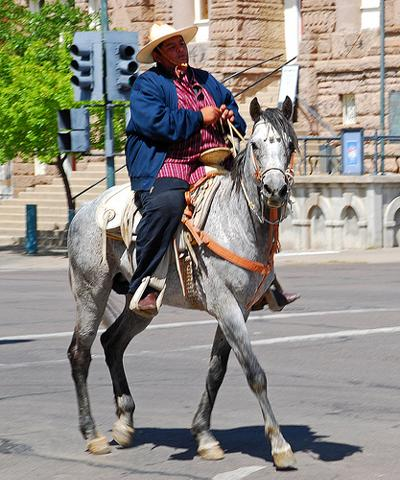person: (126, 21, 301, 316)
